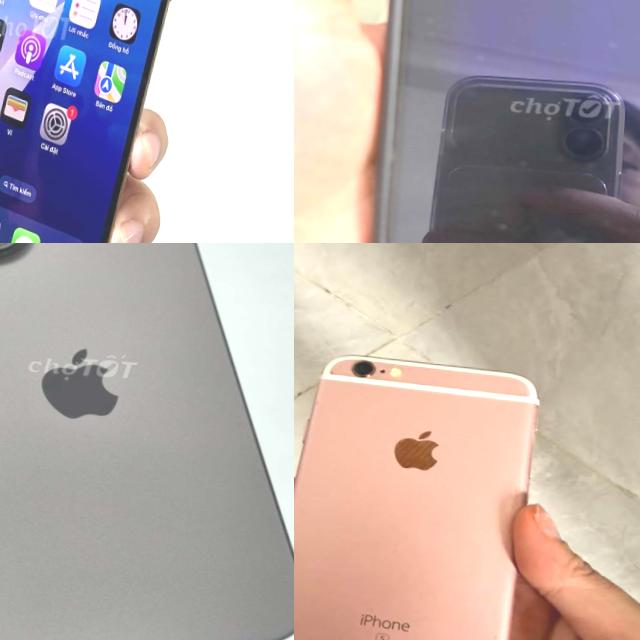gen_12_13: (357, 0, 640, 243), (0, 0, 217, 243)
gen_15: (0, 243, 294, 640)
gen_6: (294, 349, 542, 640)
